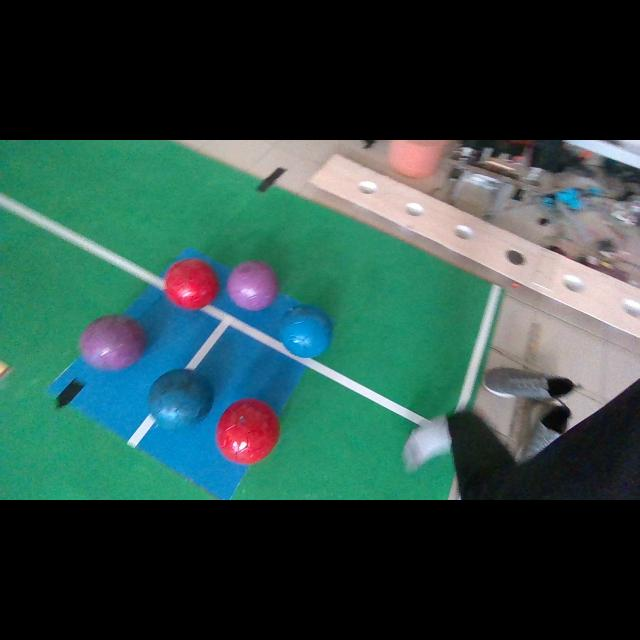B: (148, 370, 214, 430), (280, 305, 332, 358)
P: (79, 315, 146, 370), (228, 260, 279, 310)
R: (216, 399, 280, 464), (165, 259, 219, 310)
